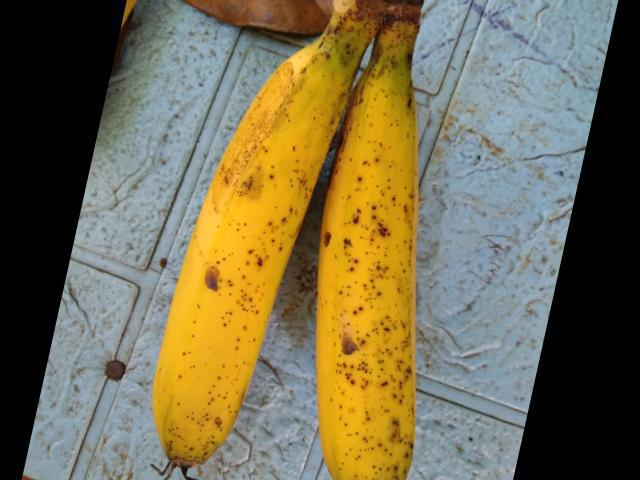ripe: (140, 51, 337, 465), (307, 76, 462, 479)
